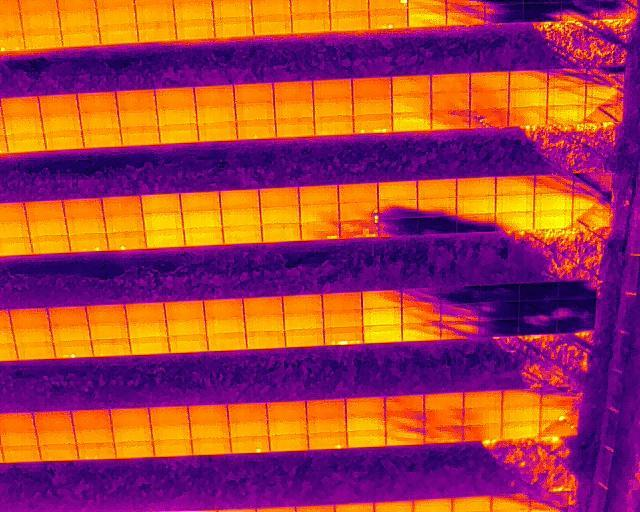Cell: (236, 119, 275, 139), (105, 232, 146, 250), (307, 432, 346, 450), (231, 436, 270, 454), (539, 420, 578, 435), (540, 405, 578, 420)
Cell-Multi: (369, 8, 408, 29), (352, 114, 392, 133), (324, 325, 363, 344), (300, 221, 339, 239), (67, 235, 108, 252), (53, 340, 93, 357), (339, 220, 378, 237), (339, 202, 378, 219), (77, 442, 115, 459)
No-Anomaly: (95, 2, 137, 23), (329, 10, 369, 32), (23, 27, 62, 49), (253, 14, 292, 36), (20, 7, 60, 28), (135, 0, 174, 21), (291, 12, 330, 33), (174, 19, 214, 39), (469, 89, 509, 109), (137, 21, 175, 42), (392, 112, 431, 132), (408, 6, 447, 26), (299, 186, 338, 206), (157, 104, 196, 124), (5, 133, 44, 153), (276, 117, 315, 137), (198, 121, 237, 141), (82, 128, 121, 148), (144, 230, 185, 249), (215, 16, 252, 37), (60, 5, 97, 26), (274, 98, 314, 117), (507, 106, 547, 125), (60, 26, 98, 46), (158, 124, 198, 143), (141, 212, 183, 230), (392, 75, 431, 94), (1, 97, 40, 116), (43, 131, 82, 150), (196, 103, 235, 122), (98, 24, 137, 43), (314, 116, 353, 135), (322, 292, 361, 311), (30, 236, 71, 254), (24, 201, 65, 219), (139, 194, 182, 211), (121, 126, 159, 145), (42, 111, 80, 130), (110, 408, 150, 426), (352, 77, 392, 95), (312, 79, 352, 97), (173, 0, 213, 18), (268, 434, 308, 452), (234, 101, 274, 119), (194, 85, 234, 103), (207, 333, 247, 351), (64, 200, 104, 218), (164, 300, 204, 318), (222, 226, 262, 244), (245, 331, 285, 349), (259, 189, 299, 207), (378, 182, 418, 200), (494, 176, 534, 194), (87, 304, 127, 322), (219, 190, 261, 207), (100, 197, 142, 214), (346, 430, 385, 448), (189, 405, 228, 423), (314, 97, 353, 115), (501, 406, 540, 424), (353, 96, 392, 114), (457, 179, 496, 197), (323, 309, 362, 327), (457, 197, 496, 215), (363, 325, 402, 343), (80, 110, 119, 128), (533, 210, 572, 228), (285, 329, 324, 347), (118, 107, 157, 125), (361, 308, 402, 325), (180, 194, 221, 211), (102, 216, 145, 232), (192, 438, 230, 456), (50, 306, 88, 324), (90, 322, 128, 340), (127, 303, 165, 321), (431, 74, 471, 91), (391, 95, 431, 112), (77, 93, 117, 110), (112, 425, 152, 442), (234, 83, 274, 100), (469, 71, 509, 88), (463, 391, 503, 408), (260, 207, 300, 224), (338, 184, 378, 201), (244, 313, 284, 330), (494, 195, 534, 212), (203, 299, 243, 316), (284, 312, 324, 329), (260, 225, 300, 242), (221, 209, 261, 226), (283, 295, 323, 312), (417, 180, 457, 197), (10, 308, 50, 325), (116, 89, 156, 106), (65, 218, 107, 234), (27, 220, 69, 236), (16, 341, 53, 359), (430, 92, 469, 109), (151, 424, 190, 441), (346, 415, 385, 432), (39, 94, 78, 111), (502, 390, 541, 407), (508, 72, 547, 89), (306, 400, 345, 417), (71, 410, 110, 427), (38, 443, 77, 460), (213, 0, 252, 17), (190, 423, 229, 440), (34, 412, 73, 429), (300, 204, 339, 221), (91, 339, 130, 356), (130, 337, 169, 354), (3, 115, 42, 132), (423, 393, 464, 409), (183, 229, 224, 245), (181, 212, 222, 228), (156, 87, 194, 104), (230, 420, 268, 437), (268, 402, 306, 419), (169, 335, 207, 352), (273, 81, 313, 97), (114, 441, 154, 457), (345, 397, 385, 413), (463, 409, 503, 425), (451, 494, 491, 510), (533, 194, 573, 210), (243, 297, 283, 313), (153, 440, 192, 456), (269, 419, 308, 435), (1, 446, 40, 462), (228, 403, 267, 419), (149, 407, 188, 423), (167, 319, 206, 335), (128, 322, 167, 338), (205, 316, 244, 332), (508, 89, 547, 105), (51, 324, 90, 340), (13, 326, 52, 342), (75, 427, 113, 443), (501, 422, 539, 438), (0, 430, 37, 446), (0, 413, 34, 430), (37, 428, 75, 443), (308, 417, 346, 432), (252, 0, 291, 14)
Shadowing: (546, 104, 585, 124), (431, 110, 470, 130), (469, 108, 508, 128), (484, 4, 523, 24), (446, 5, 484, 25), (378, 200, 418, 219), (586, 68, 624, 87), (572, 211, 610, 230), (585, 104, 623, 123), (384, 412, 424, 430), (556, 281, 596, 299), (378, 219, 418, 237), (401, 323, 440, 341), (418, 198, 457, 216), (478, 284, 519, 301), (477, 302, 518, 319), (530, 494, 568, 512), (401, 287, 439, 305), (523, 3, 561, 21), (440, 321, 478, 339), (519, 282, 557, 300), (385, 429, 425, 446), (424, 410, 464, 427), (561, 2, 601, 19), (556, 300, 596, 317), (546, 87, 585, 104), (457, 215, 496, 232), (572, 176, 611, 193), (418, 217, 457, 234), (534, 176, 573, 193), (518, 317, 557, 334), (361, 291, 402, 307), (547, 69, 585, 86), (496, 212, 534, 229), (440, 303, 478, 320), (573, 193, 611, 210), (423, 426, 463, 442), (600, 1, 637, 18), (584, 87, 623, 103), (491, 495, 530, 511), (385, 395, 424, 411), (540, 390, 579, 406), (440, 286, 479, 302), (477, 320, 518, 335), (518, 300, 556, 316), (402, 306, 440, 322), (462, 425, 501, 440), (556, 317, 595, 330)
